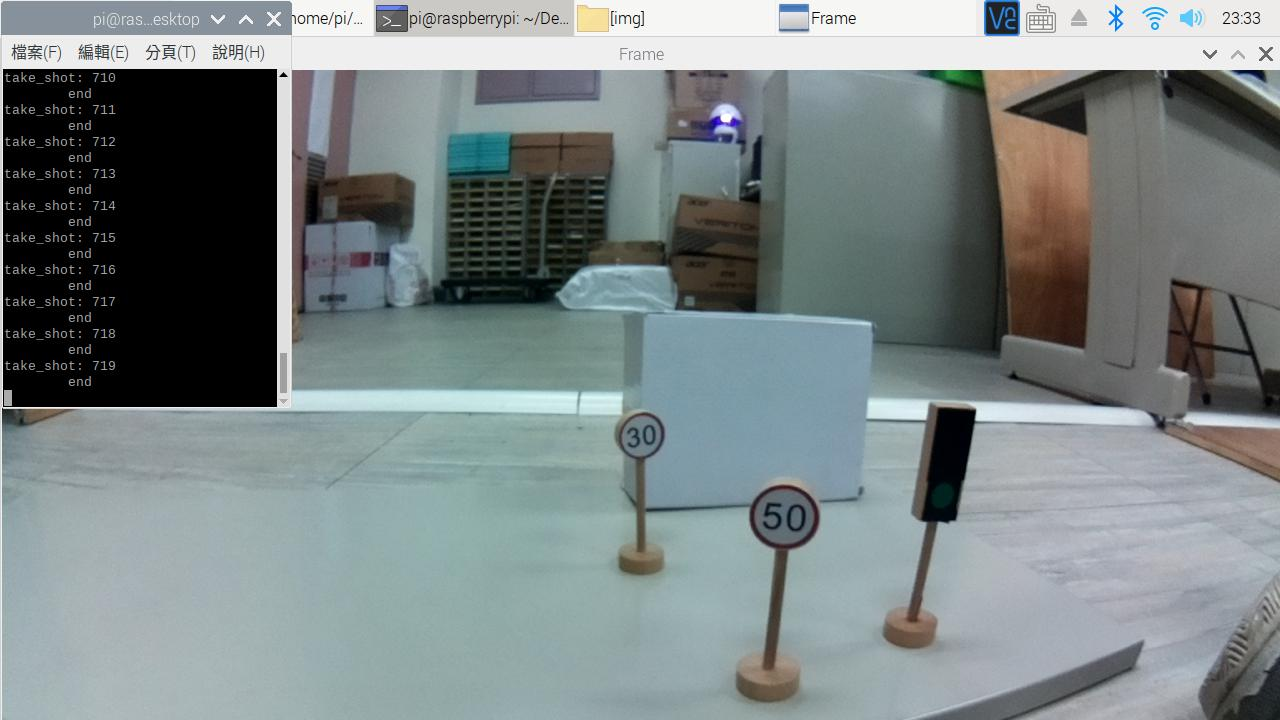Green: (917, 403, 977, 533)
Speed30: (611, 409, 668, 465)
Speed50: (748, 479, 824, 551)
